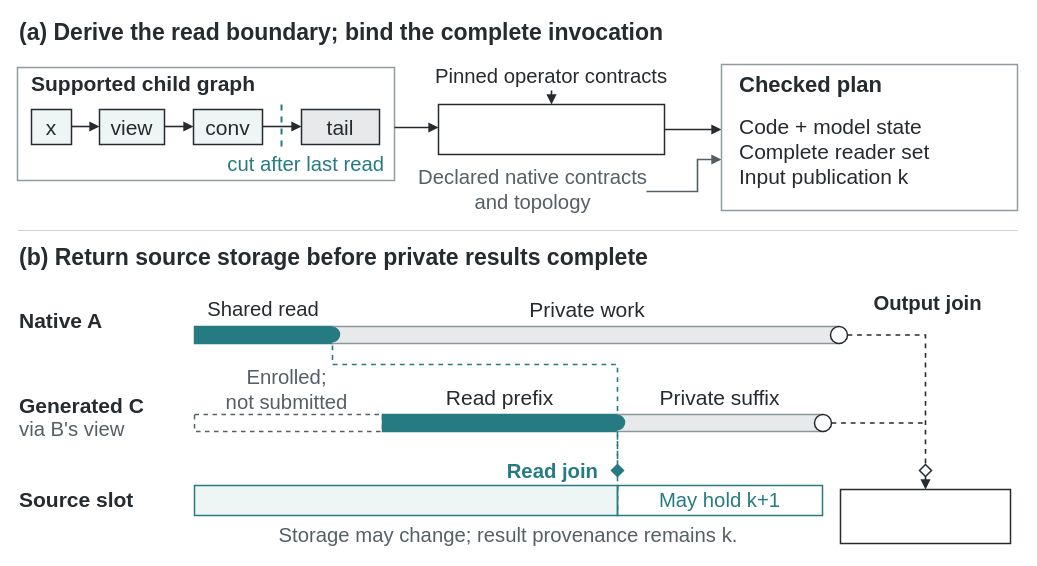
Some shapes in this 1037 by 566 pixel diagram are drawn without their labels. Each missing label, with the centre of its shape:
Publication k protected: (405,500)
Publish result of k: (925,516)
Read-set analysis: (551,129)
